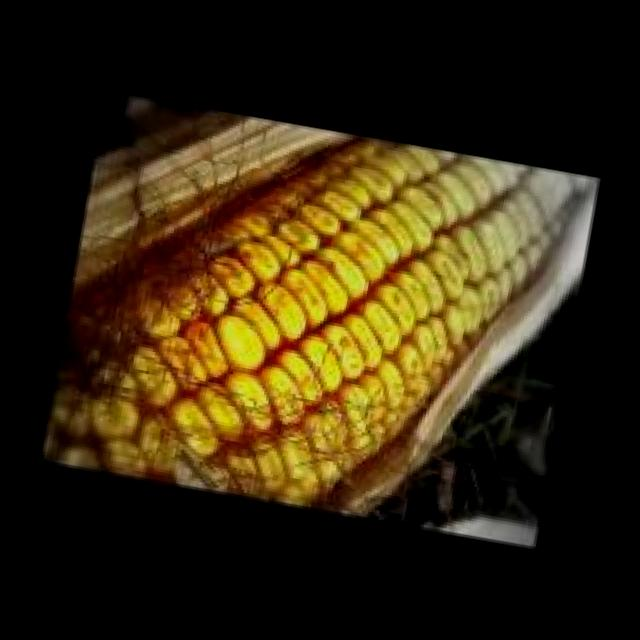corn: (45, 128, 597, 517)
